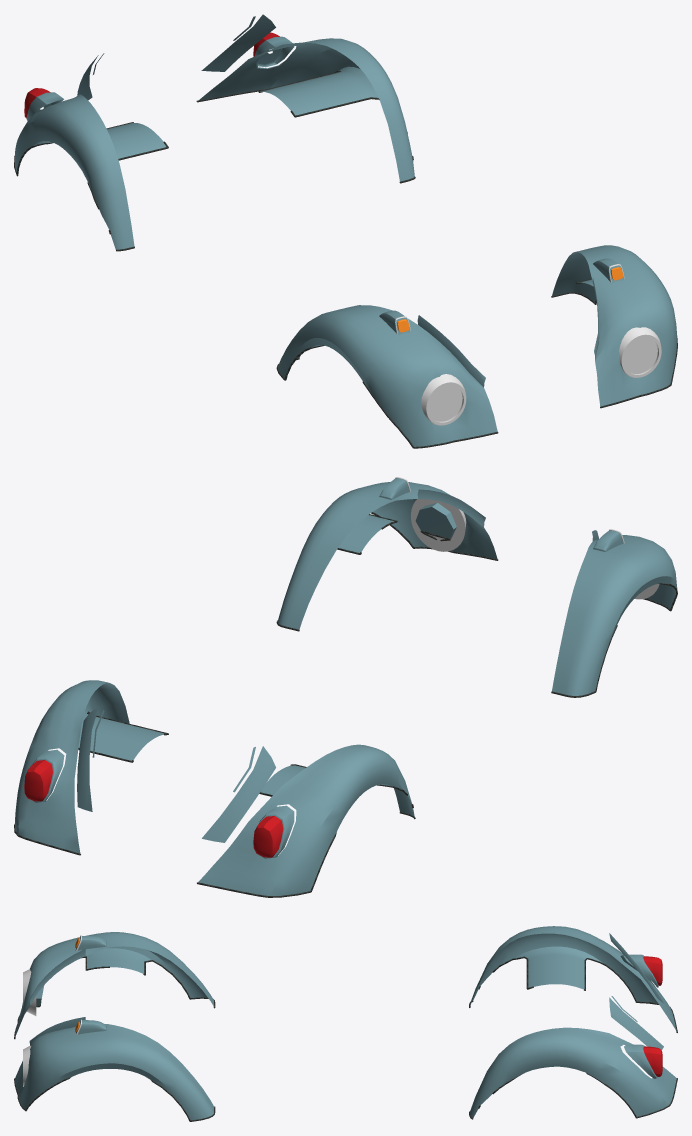
File: STAGE2_PART_007_CutBajaFenders.glb
3 renders of one model, top to bottom at view 1: azimuth 30°, elevation 25°; view 2: azimuth 150°, elevation 25°; view 3: azimuth 270°, elevation 25°, orthographic. The views are drawn at different scales.
Visible parts, largest first — view 1: BODY_Stage2_Fender_FR_0, BODY_Stage2_Fender_RL_0, BODY_Stage2_Fender_FL_0, BODY_Stage2_Fender_RR_0, EXTERIOR_Stage2_B_HeadlightGlass_0, EXTERIOR_Stage2_B_HeadlightTrim_0, EXTERIOR_Stage2_B_TurnSignal_0; view 2: BODY_Stage2_Fender_RR_0, BODY_Stage2_Fender_RL_0, BODY_Stage2_Fender_FL_0, BODY_Stage2_Fender_FR_0, EXTERIOR_Stage2_B_HeadlightTrim_0, BODY_Stage2_Fender_RR_1, BODY_Stage2_Fender_RL_1, EXTERIOR_Stage2_B_TurnSignal_0; view 3: BODY_Stage2_Fender_RL_0, BODY_Stage2_Fender_FL_0, BODY_Stage2_Fender_RR_0, BODY_Stage2_Fender_FR_0, EXTERIOR_Stage2_B_TurnSignal_0, EXTERIOR_Stage2_B_HeadlightTrim_0, TRIM_Stage2_Fender_RR_0, BODY_Stage2_Fender_RL_1, BODY_Stage2_Fender_RR_1, TRIM_Stage2_Fender_FL_0, TRIM_Stage2_Fender_FR_0, TRIM_Stage2_Fender_RL_0.
Boxes of the visible parts, x1=… form: BODY_Stage2_Fender_FR_0: x1=277, y1=305, x2=497, y2=446; BODY_Stage2_Fender_RL_0: x1=198, y1=14, x2=414, y2=181; BODY_Stage2_Fender_FL_0: x1=552, y1=245, x2=677, y2=406; BODY_Stage2_Fender_RR_0: x1=15, y1=53, x2=166, y2=249; EXTERIOR_Stage2_B_HeadlightGlass_0: x1=429, y1=337, x2=657, y2=421; EXTERIOR_Stage2_B_HeadlightTrim_0: x1=421, y1=327, x2=661, y2=425; EXTERIOR_Stage2_B_TurnSignal_0: x1=379, y1=258, x2=624, y2=334; BODY_Stage2_Fender_RR_0: x1=198, y1=744, x2=414, y2=895; BODY_Stage2_Fender_RL_0: x1=15, y1=680, x2=163, y2=853; BODY_Stage2_Fender_FL_0: x1=277, y1=482, x2=497, y2=629; BODY_Stage2_Fender_FR_0: x1=552, y1=530, x2=677, y2=695; EXTERIOR_Stage2_B_HeadlightTrim_0: x1=410, y1=499, x2=659, y2=599; BODY_Stage2_Fender_RR_1: x1=253, y1=816, x2=283, y2=857; BODY_Stage2_Fender_RL_1: x1=24, y1=760, x2=52, y2=801; EXTERIOR_Stage2_B_TurnSignal_0: x1=379, y1=478, x2=623, y2=551; BODY_Stage2_Fender_RL_0: x1=470, y1=996, x2=676, y2=1117; BODY_Stage2_Fender_FL_0: x1=15, y1=1017, x2=214, y2=1120; BODY_Stage2_Fender_RR_0: x1=470, y1=926, x2=676, y2=1031; BODY_Stage2_Fender_FR_0: x1=15, y1=932, x2=214, y2=1037; EXTERIOR_Stage2_B_TurnSignal_0: x1=75, y1=936, x2=106, y2=1034; EXTERIOR_Stage2_B_HeadlightTrim_0: x1=23, y1=969, x2=36, y2=1086; TRIM_Stage2_Fender_RR_0: x1=469, y1=956, x2=677, y2=1032; BODY_Stage2_Fender_RL_1: x1=643, y1=1046, x2=662, y2=1076; BODY_Stage2_Fender_RR_1: x1=643, y1=956, x2=662, y2=985; TRIM_Stage2_Fender_FL_0: x1=14, y1=1077, x2=215, y2=1121; TRIM_Stage2_Fender_FR_0: x1=14, y1=956, x2=215, y2=1039; TRIM_Stage2_Fender_RL_0: x1=469, y1=1073, x2=677, y2=1119.
Size of the model in its own units: 1.55 by 0.565 by 3.54.
